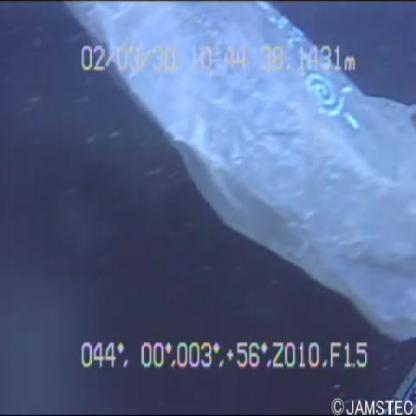Rác: (53, 1, 416, 349)
